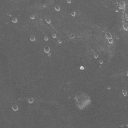corrosion: (73, 92, 91, 109), (43, 45, 53, 56), (26, 95, 35, 105), (104, 31, 113, 40), (52, 4, 61, 13), (28, 13, 37, 22), (28, 34, 36, 43), (11, 103, 19, 112), (10, 16, 19, 24), (70, 10, 78, 18), (50, 32, 58, 40), (44, 16, 51, 25), (78, 64, 85, 71), (42, 35, 49, 42), (93, 52, 99, 59), (106, 84, 111, 91), (99, 59, 104, 65)
